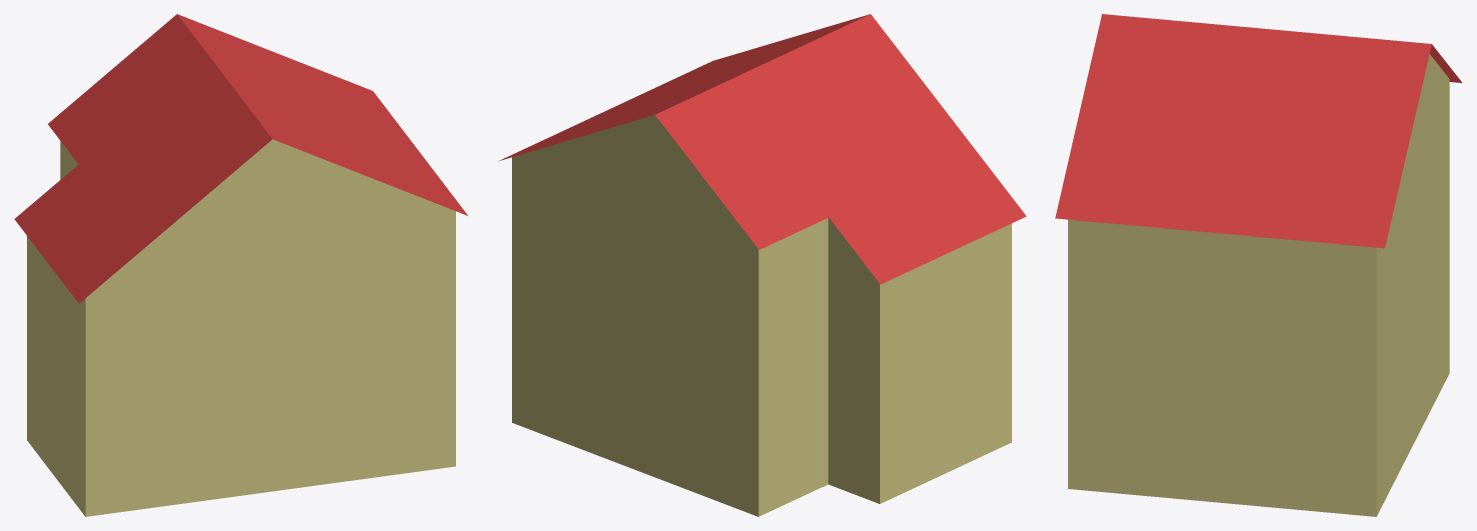
The picture shows the model from 3 angles, left to right: view 1: azimuth 30°, elevation 25°; view 2: azimuth 150°, elevation 25°; view 3: azimuth 270°, elevation 25°; orthographic projection. The views are drawn at different scales.
Size of the model in its own units: 11.58 by 9.35 by 9.79.
